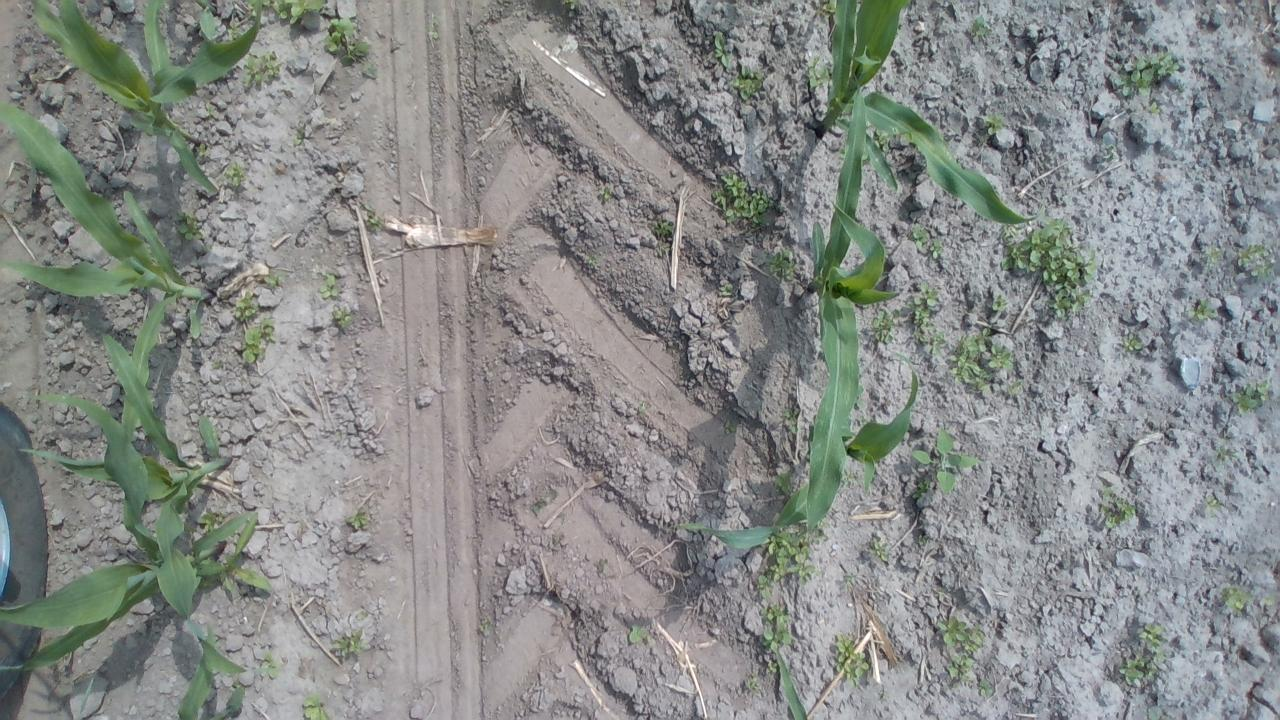Maize: (19, 333, 248, 675), (0, 101, 222, 441), (0, 396, 270, 670), (816, 0, 1042, 225), (671, 354, 920, 548), (30, 1, 264, 193), (805, 71, 900, 531), (174, 621, 244, 720), (774, 646, 809, 720)
Weeds: (1001, 218, 1100, 318), (914, 424, 984, 503), (759, 530, 828, 602), (952, 324, 1014, 390), (937, 614, 988, 684), (1110, 52, 1182, 94), (710, 173, 769, 224), (906, 280, 945, 352), (834, 630, 874, 690), (322, 16, 369, 61), (759, 603, 796, 651), (262, 0, 328, 26), (1120, 652, 1164, 690), (1099, 484, 1136, 528), (241, 319, 277, 364), (1228, 378, 1268, 417), (242, 54, 282, 88), (871, 306, 900, 348), (1134, 616, 1166, 652), (229, 288, 258, 324), (331, 626, 364, 657), (732, 65, 762, 98), (806, 50, 832, 88), (761, 249, 796, 275), (174, 208, 203, 239), (1222, 586, 1252, 612), (910, 474, 936, 504), (1237, 243, 1265, 270), (1183, 298, 1215, 320), (970, 12, 996, 39), (869, 535, 892, 565), (908, 222, 932, 250), (331, 300, 353, 330), (302, 695, 328, 720), (196, 506, 222, 530), (652, 218, 678, 241), (345, 509, 371, 532), (714, 30, 728, 72), (316, 274, 338, 300), (741, 670, 762, 696), (1203, 243, 1223, 270), (1248, 260, 1274, 280), (260, 652, 278, 679), (363, 207, 381, 234), (983, 111, 1004, 134), (782, 406, 798, 436), (225, 160, 242, 188), (990, 293, 1010, 316), (874, 127, 892, 152), (1204, 493, 1222, 518), (361, 59, 381, 81), (1003, 380, 1026, 399), (774, 470, 793, 492), (930, 236, 946, 260), (264, 270, 282, 290), (628, 624, 648, 642), (1216, 444, 1234, 463), (1122, 334, 1140, 352), (842, 472, 858, 492), (716, 280, 736, 296), (856, 383, 867, 412), (1001, 225, 1022, 240), (584, 253, 601, 271), (598, 185, 614, 204), (843, 571, 858, 591), (227, 20, 241, 41), (593, 558, 611, 574), (531, 500, 548, 516), (979, 679, 994, 697), (554, 532, 569, 550), (916, 532, 932, 548), (722, 418, 736, 436), (428, 16, 438, 40), (1148, 705, 1163, 720), (1262, 594, 1276, 610), (194, 143, 209, 157), (767, 660, 781, 675), (546, 486, 560, 501), (1172, 80, 1186, 94), (820, 0, 834, 14), (292, 131, 306, 144), (209, 360, 223, 372), (204, 103, 215, 118), (936, 586, 948, 599), (1148, 101, 1159, 113), (638, 402, 648, 414), (480, 620, 490, 632), (858, 415, 869, 424), (565, 0, 576, 9), (560, 512, 566, 523)
